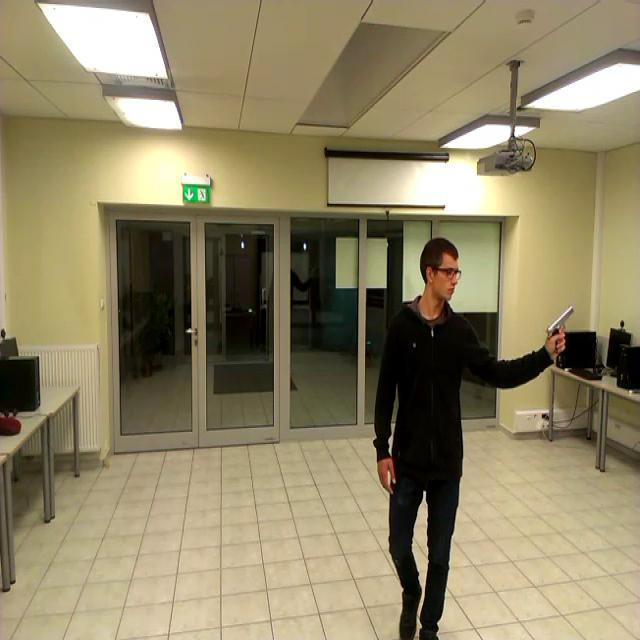Gun: (548, 304, 576, 352)
